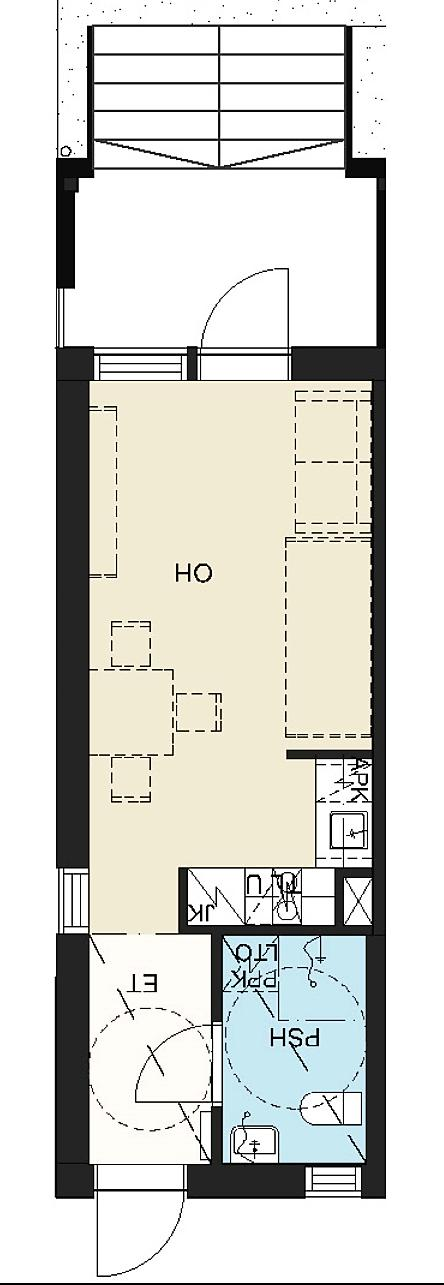bathroom: (224, 937, 371, 1163)
door: (90, 1155, 193, 1278), (195, 263, 297, 375), (131, 1019, 231, 1106)
perimeter: (60, 354, 381, 1199)
stairs: (98, 22, 343, 176)
window: (84, 343, 193, 384), (49, 863, 95, 945), (299, 1158, 374, 1206)
